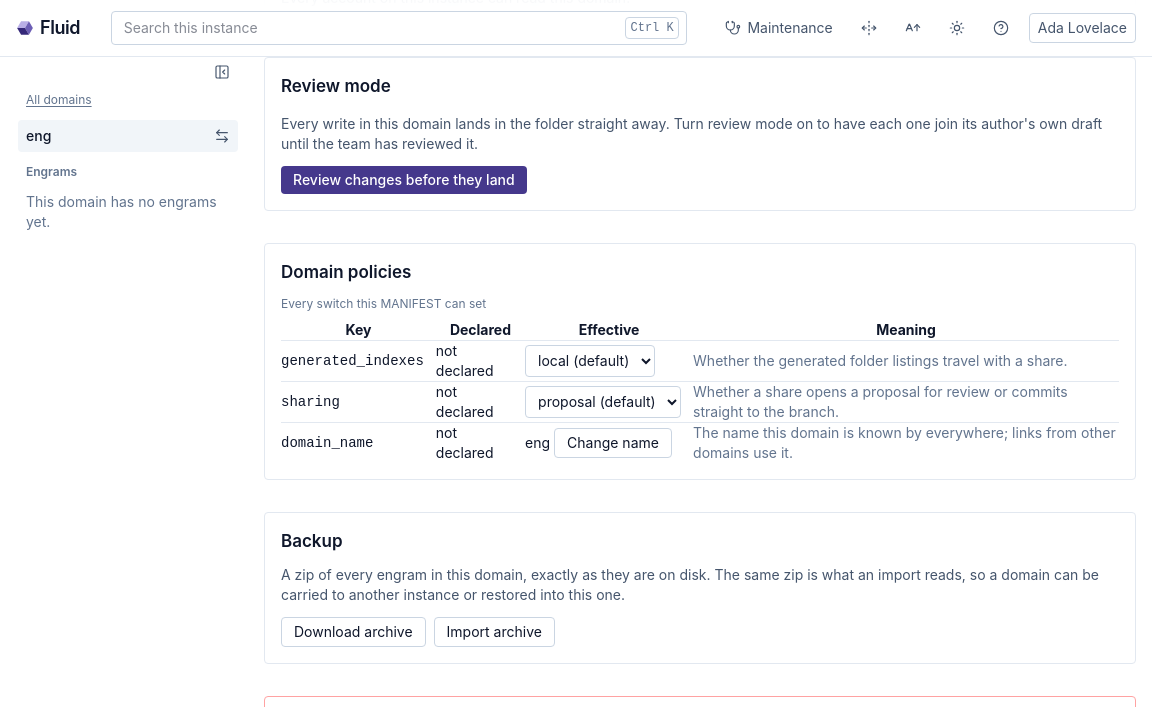
Test: the domain policies card › posts a generated_indexes change at once and takes the answer into the manifest query
The image size is (1152, 707).
(page scrolled)
Select "shared" in the dropdown labelled "generated_indexes" at (590, 361), box [525,345,655,377]
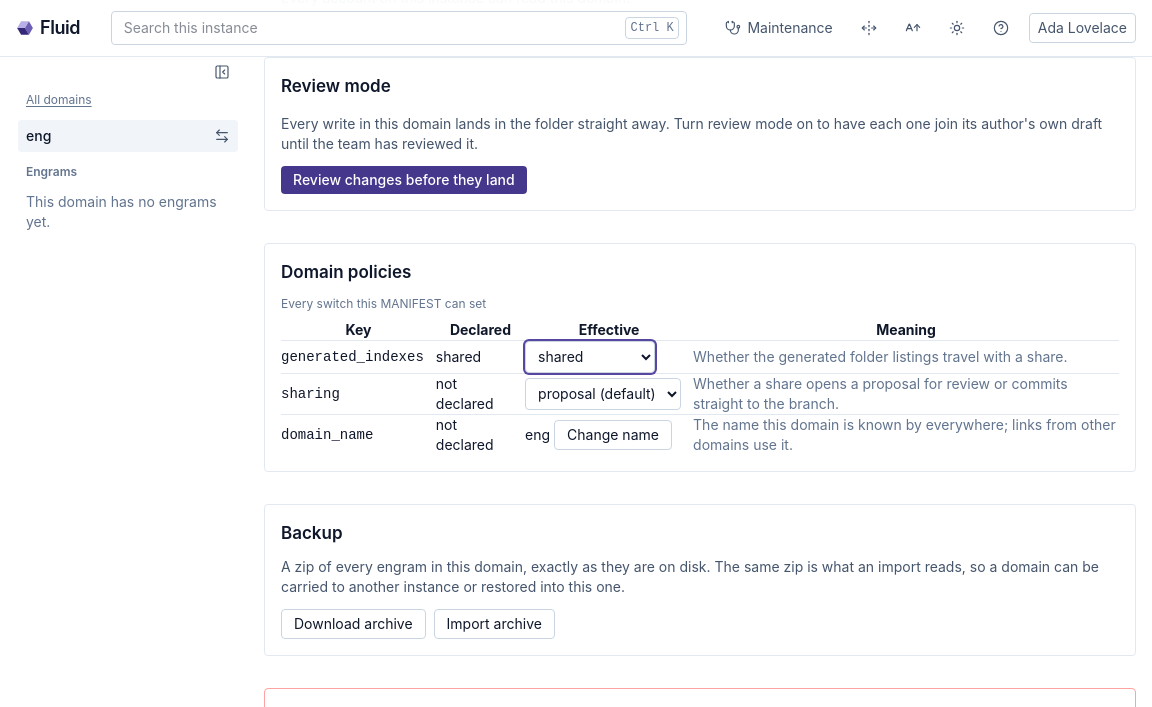
Now the text "shared" is shown, box [436,340,525,373]
